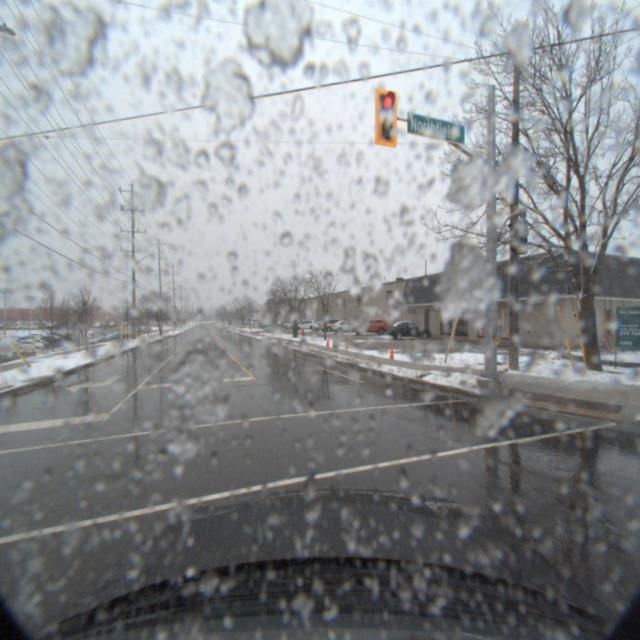Car: (384, 319, 432, 340), (348, 316, 388, 336), (329, 318, 361, 334)
